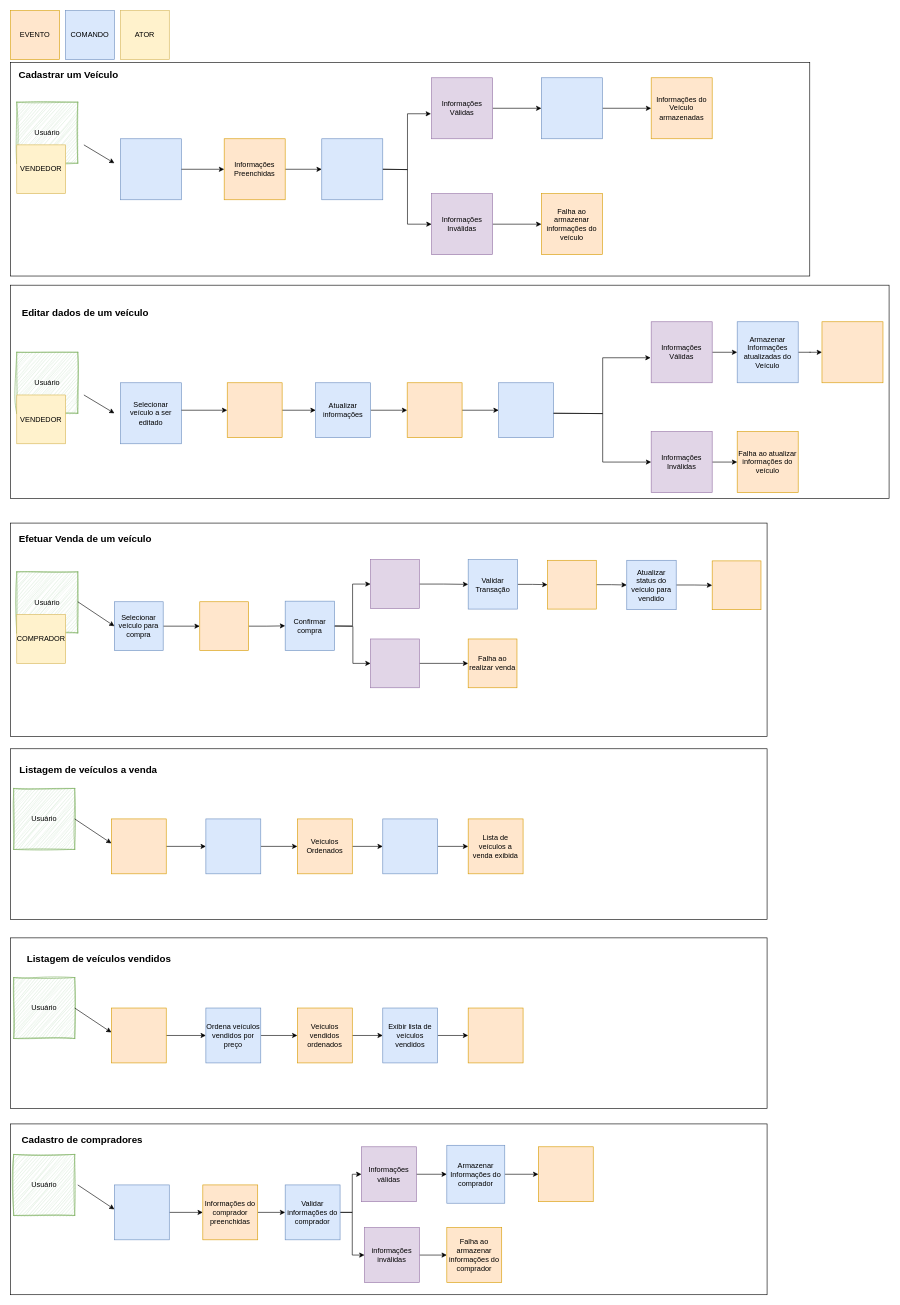
The diagram is 900 pixels wide and 1305 high, and some of its shapes have lost their labels. Each missing label, with the centre of its shape:
"Armazenar Informações do Veículo" goes at pixel 571 108.
"Compra Confirmada" goes at pixel 394 583.
"Compra não confirmada" goes at pixel 394 663.
"Exibir lista de veículos à venda" goes at pixel 410 846.
"Informações atualizadas" goes at pixel 434 410.
"Informações atualizadas do Veículo armazenada" goes at pixel 852 352.
"Informações do comprador armazenada" goes at pixel 565 1174.
"Lista de veículos vendidos exibida" goes at pixel 495 1035.
"Ordena veículos por preço" goes at pixel 233 846.
"Preenche informações do veículo" goes at pixel 150 169.
"Preencher informações do comprador" goes at pixel 141 1212.
"Solicitação de listagem de veículos a venda" goes at pixel 138 846.
"Solicitação de listagem de veículos vendidos" goes at pixel 138 1035.
"Status do veículo atualizado para vendido" goes at pixel 736 585.
"Transação validada" goes at pixel 571 584.
"Validar Informações" goes at pixel 352 169.
"Validar informações atualizadas" goes at pixel 526 410.
"Veiculo Selecionado" goes at pixel 254 410.
"Veículo selcionado" goes at pixel 224 626.
